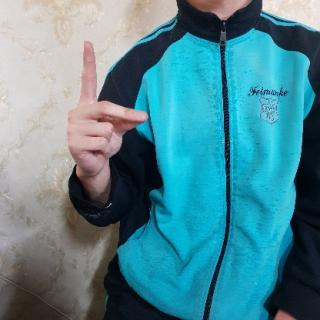TAA: (64, 34, 152, 184)
